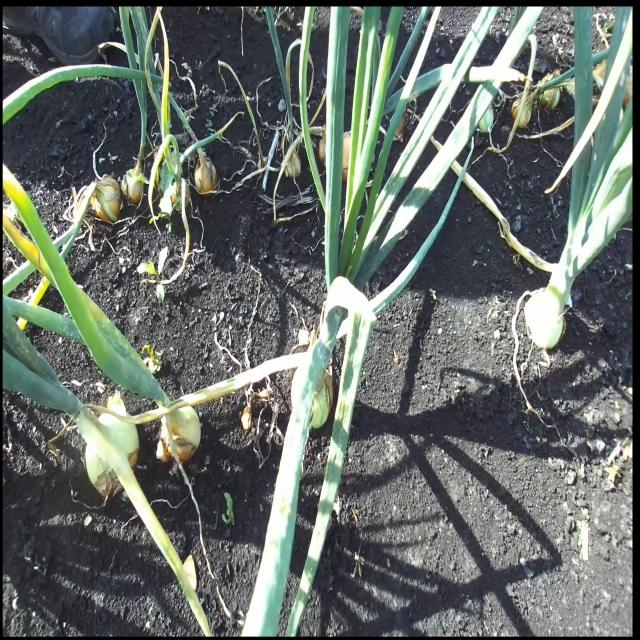onion: (157, 402, 201, 464), (90, 173, 122, 224), (308, 368, 333, 431), (120, 157, 146, 206), (194, 147, 218, 195)
